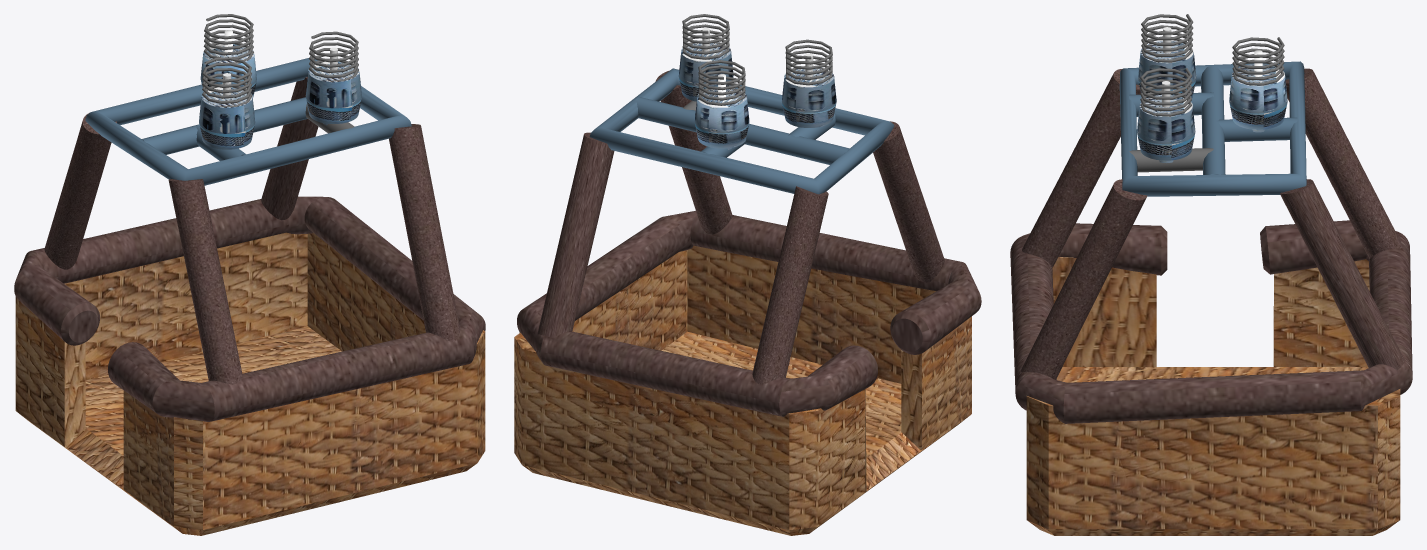
The model's file is basket.glb.
The picture shows the model from 3 angles, left to right: view 1: azimuth 30°, elevation 25°; view 2: azimuth 150°, elevation 25°; view 3: azimuth 270°, elevation 25°; orthographic projection. The views are drawn at different scales.
Visible parts, largest first — view 1: Cube, Cylinder, Plane.001, Cylinder.003, Cylinder.004, Cylinder.002, Cylinder.006, Cylinder.007, Cylinder.001, Plane, Coil.002, Coil.001 (+2 smaller); view 2: Cube, Cylinder, Plane.001, Cylinder.001, Cylinder.002, Cylinder.004, Plane, Cylinder.003, Cylinder.005, Cylinder.006, Cylinder.007, Coil (+2 smaller); view 3: Cube, Cylinder, Plane.001, Cylinder.003, Cylinder.001, Cylinder.004, Cylinder.002, Cylinder.007, Cylinder.005, Plane, Coil.002, Coil.001 (+4 smaller).
Part boxes in pixels (x1,y1,x2,y2): Cube: (15,232,485,535); Cylinder: (14,196,485,421); Plane.001: (85,58,411,185); Cylinder.003: (389,124,460,341); Cylinder.004: (168,179,242,384); Cylinder.002: (44,113,116,269); Cylinder.006: (199,73,255,149); Cylinder.007: (305,47,361,125); Cylinder.001: (261,77,318,220); Plane: (141,97,307,154); Coil.002: (309,31,358,81); Coil.001: (202,57,251,106); Cube: (514,245,971,535); Cylinder: (517,210,981,416); Plane.001: (589,68,894,194); Cylinder.001: (537,132,614,337); Cylinder.002: (752,186,828,384); Cylinder.004: (873,121,944,282); Plane: (635,97,850,164); Cylinder.003: (655,70,732,234); Cylinder.005: (694,74,749,149); Cylinder.006: (782,53,836,127); Cylinder.007: (678,28,733,101); Coil: (698,60,745,105); Cube: (1026,257,1400,535); Cylinder: (1010,220,1412,423); Plane.001: (1119,61,1306,196); Cylinder.003: (1021,179,1147,379); Cylinder.001: (1280,179,1404,370); Cylinder.004: (1022,69,1140,267); Cylinder.002: (1285,68,1402,258); Cylinder.007: (1137,81,1195,162); Cylinder.005: (1229,50,1287,132); Plane: (1201,66,1225,174); Coil.002: (1140,68,1192,116); Coil.001: (1141,14,1193,62).
Bounding box in the file's own units: 2.15 × 2.48 × 2.15.
10 materials, 5 textured.
